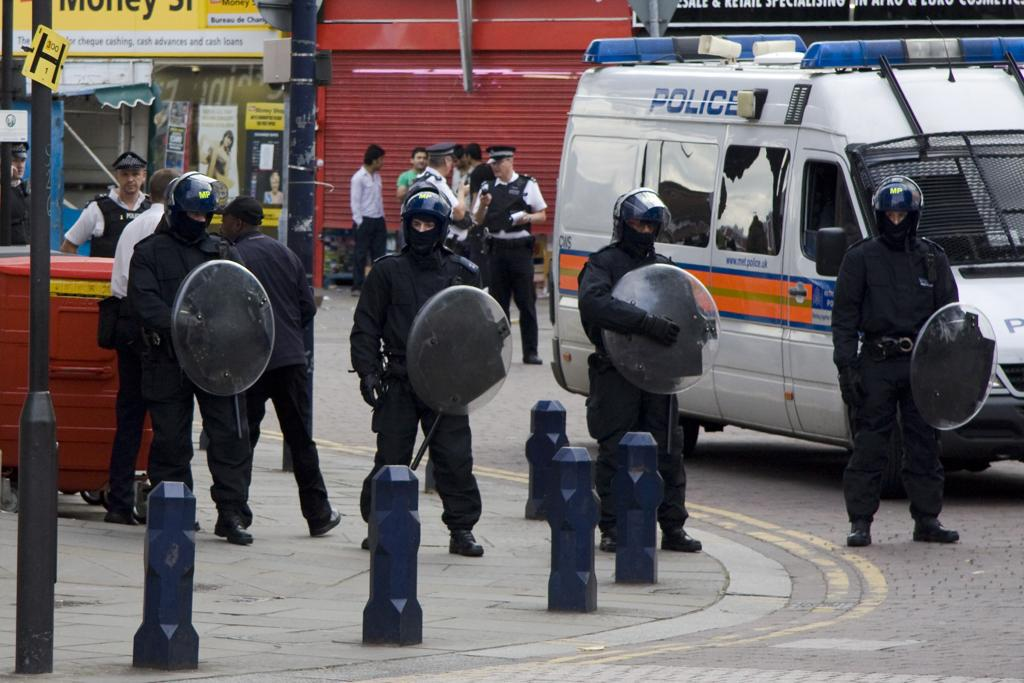face: (623, 214, 656, 248), (880, 204, 911, 239), (410, 213, 437, 252), (185, 201, 210, 236), (219, 213, 240, 249), (119, 168, 142, 194), (9, 150, 26, 179), (493, 157, 507, 179), (415, 152, 427, 170), (443, 152, 452, 173), (454, 155, 464, 169), (375, 155, 384, 170), (223, 137, 232, 148), (272, 179, 279, 190)
